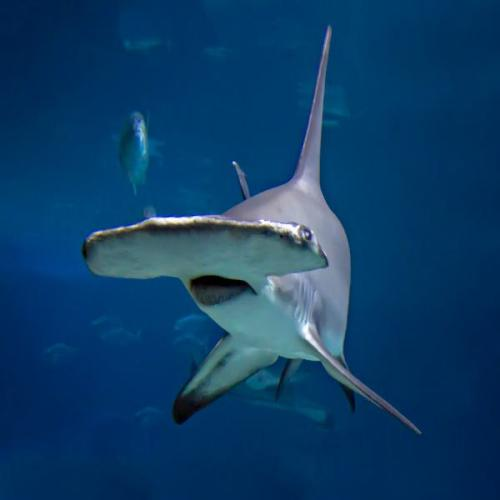shark-endangered: (80, 22, 423, 436)
